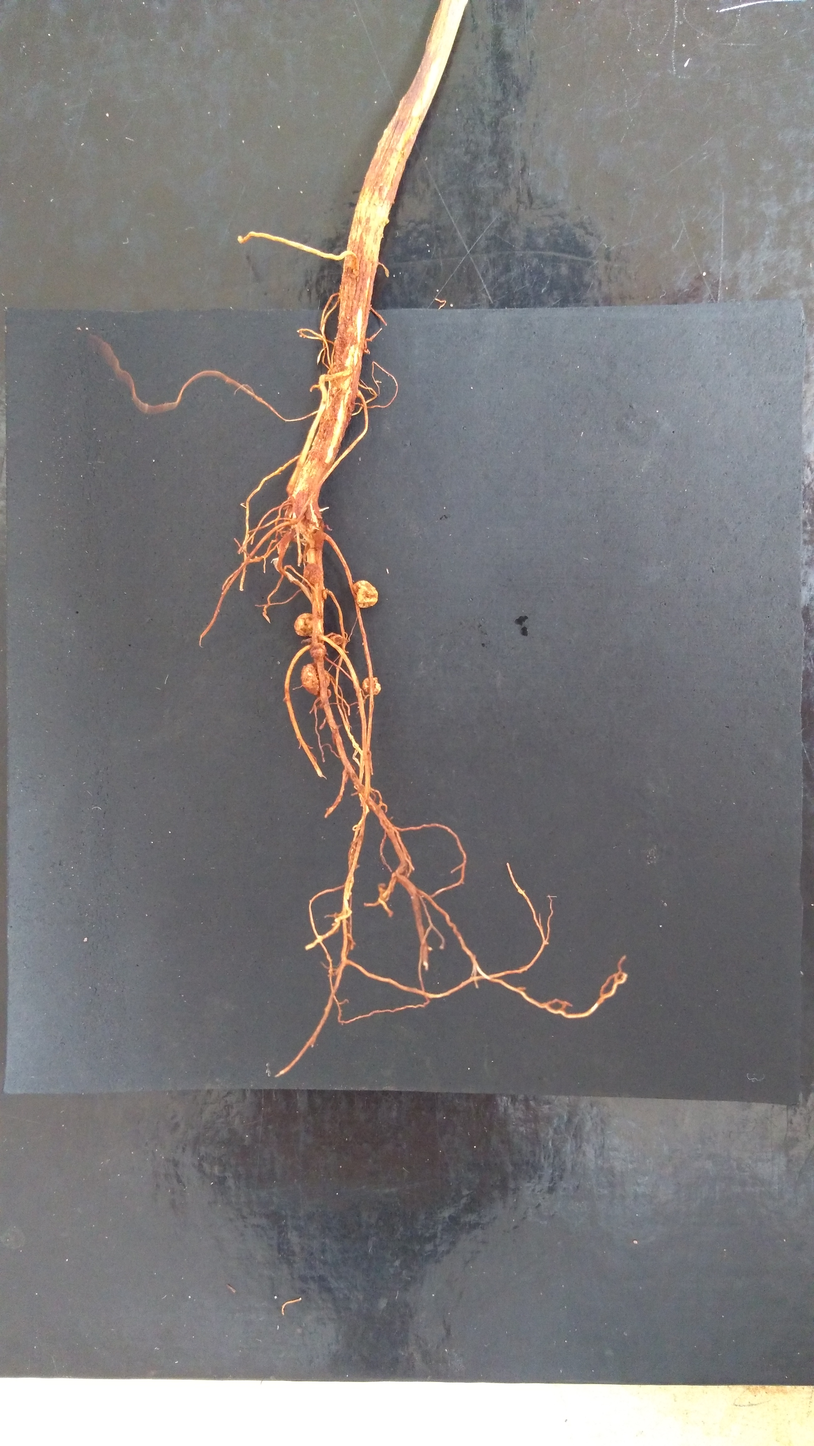nodule: (301, 663, 330, 695), (352, 580, 378, 608), (294, 613, 314, 637), (303, 563, 320, 586), (362, 677, 381, 696), (309, 643, 326, 660), (316, 689, 331, 702), (329, 634, 345, 646), (301, 638, 312, 645), (322, 589, 328, 600)
